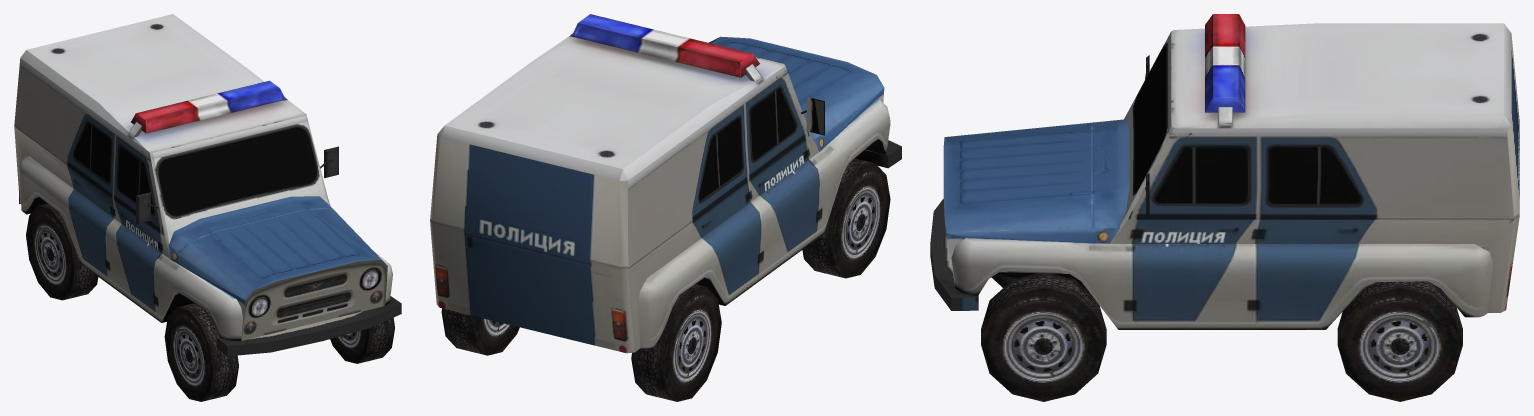
The model's file is police_suv.glb.
The picture shows the model from 3 angles, left to right: view 1: azimuth 30°, elevation 25°; view 2: azimuth 150°, elevation 25°; view 3: azimuth 270°, elevation 25°; orthographic projection. The views are drawn at different scales.
Parts seen in each view (by area): view 1: Object_88, Object_94; view 2: Object_88, Object_94; view 3: Object_88, Object_94.
Part boxes in pixels (x1,y1,x2,y2): Object_88: (14, 14, 401, 356); Object_94: (26, 203, 394, 401); Object_88: (430, 14, 901, 353); Object_94: (441, 158, 890, 401); Object_88: (930, 14, 1519, 329); Object_94: (981, 273, 1462, 401).
Size of the model in its own units: 1.96 by 2.08 by 3.84.
2 materials, 2 textured.
